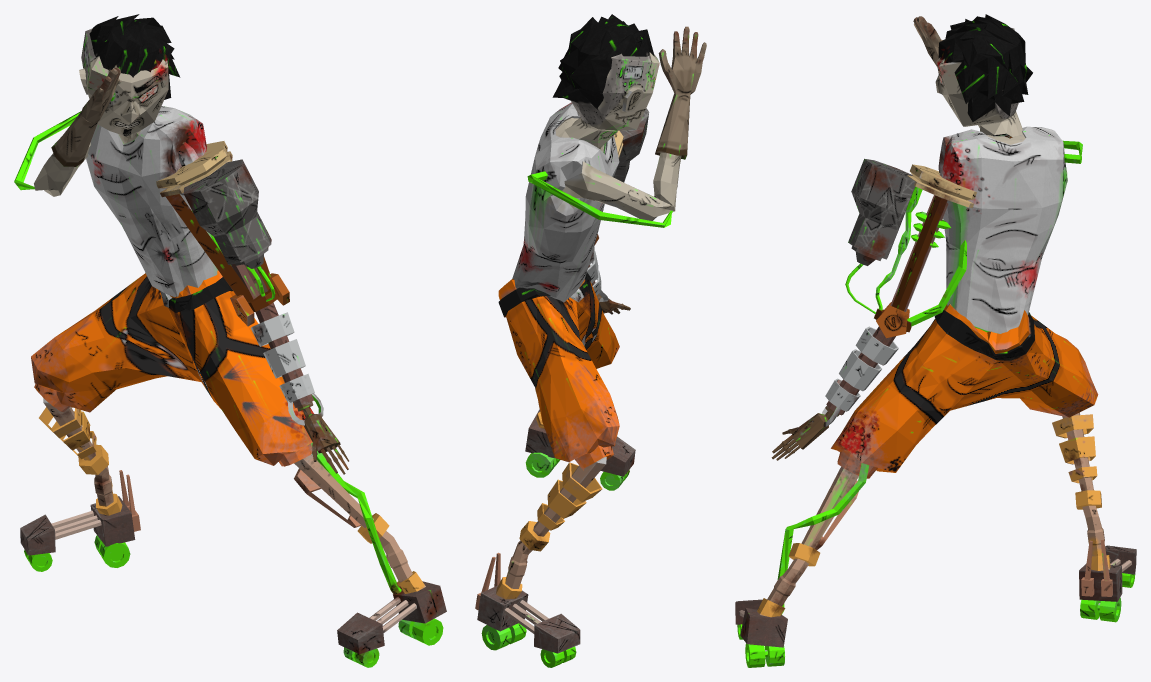
The model's file is CyborgFINALAnimation_000071.obj.
3 views of the same model, side by side, from view 1: azimuth 30°, elevation 25°; view 2: azimuth 150°, elevation 25°; view 3: azimuth 270°, elevation 25° (orthographic). The views are drawn at different scales.
Parts seen in each view (by area): view 1: CyborgMesh_Cube.002; view 2: CyborgMesh_Cube.002; view 3: CyborgMesh_Cube.002.
Boxes of the visible parts, x1,y1,x2,y2 form: CyborgMesh_Cube.002: (14, 14, 446, 667); CyborgMesh_Cube.002: (475, 14, 706, 667); CyborgMesh_Cube.002: (735, 14, 1136, 667).
Bounding box in the file's own units: 4.23 × 8.63 × 5.44.
